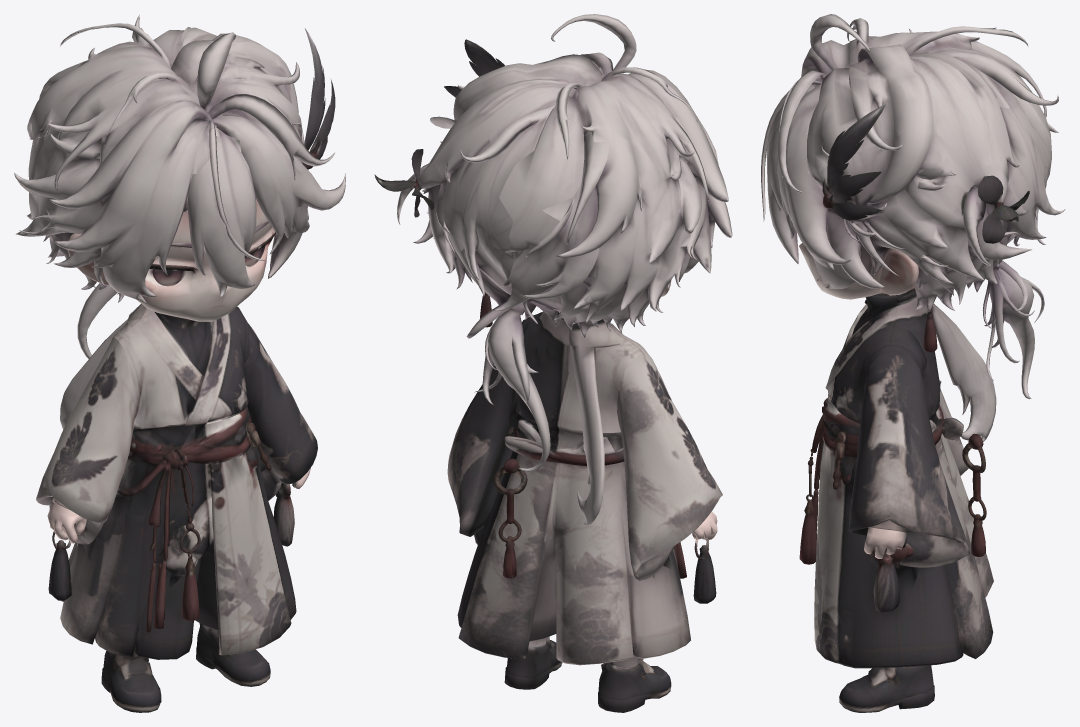
Rendered from source.glb.
The picture shows the model from 3 angles, left to right: view 1: azimuth 30°, elevation 25°; view 2: azimuth 150°, elevation 25°; view 3: azimuth 270°, elevation 25°; orthographic projection. The views are drawn at different scales.
Visible parts, largest first — view 1: tripo_part_2, tripo_part_1, tripo_part_3, tripo_part_11, tripo_part_26, tripo_part_17, tripo_part_0, tripo_part_13, tripo_part_18, tripo_part_8, tripo_part_24, tripo_part_32 (+18 smaller); view 2: tripo_part_1, tripo_part_2, tripo_part_0, tripo_part_11, tripo_part_26, tripo_part_10, tripo_part_13, tripo_part_4, tripo_part_14, tripo_part_24, tripo_part_19, tripo_part_6 (+10 smaller); view 3: tripo_part_0, tripo_part_2, tripo_part_13, tripo_part_26, tripo_part_18, tripo_part_14, tripo_part_4, tripo_part_6, tripo_part_1, tripo_part_17, tripo_part_53, tripo_part_46 (+24 smaller).
Boxes of the visible parts, x1=… form: tripo_part_2: x1=60, y1=447, x2=296, y2=659; tripo_part_1: x1=14, y1=41, x2=200, y2=286; tripo_part_3: x1=52, y1=100, x2=217, y2=303; tripo_part_11: x1=36, y1=337, x2=141, y2=562; tripo_part_26: x1=113, y1=306, x2=250, y2=442; tripo_part_17: x1=185, y1=127, x2=256, y2=297; tripo_part_0: x1=144, y1=27, x2=302, y2=139; tripo_part_13: x1=244, y1=323, x2=317, y2=500; tripo_part_18: x1=212, y1=116, x2=345, y2=254; tripo_part_8: x1=137, y1=198, x2=275, y2=321; tripo_part_24: x1=101, y1=651, x2=161, y2=712; tripo_part_32: x1=208, y1=94, x2=334, y2=181; tripo_part_1: x1=499, y1=67, x2=728, y2=326; tripo_part_2: x1=457, y1=451, x2=690, y2=665; tripo_part_0: x1=413, y1=54, x2=604, y2=325; tripo_part_11: x1=603, y1=352, x2=722, y2=580; tripo_part_26: x1=515, y1=311, x2=647, y2=432; tripo_part_10: x1=492, y1=131, x2=610, y2=323; tripo_part_13: x1=447, y1=365, x2=522, y2=536; tripo_part_4: x1=466, y1=297, x2=550, y2=471; tripo_part_14: x1=557, y1=312, x2=619, y2=525; tripo_part_24: x1=598, y1=658, x2=671, y2=712; tripo_part_19: x1=504, y1=417, x2=624, y2=466; tripo_part_6: x1=504, y1=636, x2=562, y2=689; tripo_part_0: x1=807, y1=44, x2=1065, y2=312; tripo_part_2: x1=814, y1=433, x2=993, y2=668; tripo_part_13: x1=848, y1=352, x2=969, y2=590; tripo_part_26: x1=825, y1=298, x2=940, y2=420; tripo_part_18: x1=777, y1=84, x2=852, y2=264; tripo_part_14: x1=896, y1=290, x2=996, y2=441; tripo_part_4: x1=982, y1=260, x2=1044, y2=399; tripo_part_6: x1=839, y1=665, x2=934, y2=712; tripo_part_1: x1=825, y1=18, x2=1058, y2=133; tripo_part_17: x1=766, y1=85, x2=814, y2=263; tripo_part_53: x1=827, y1=104, x2=885, y2=194; tripo_part_46: x1=827, y1=213, x2=884, y2=288.
Size of the model in its own units: 0.4587 by 1 by 0.4138.
1 material, 1 textured.
